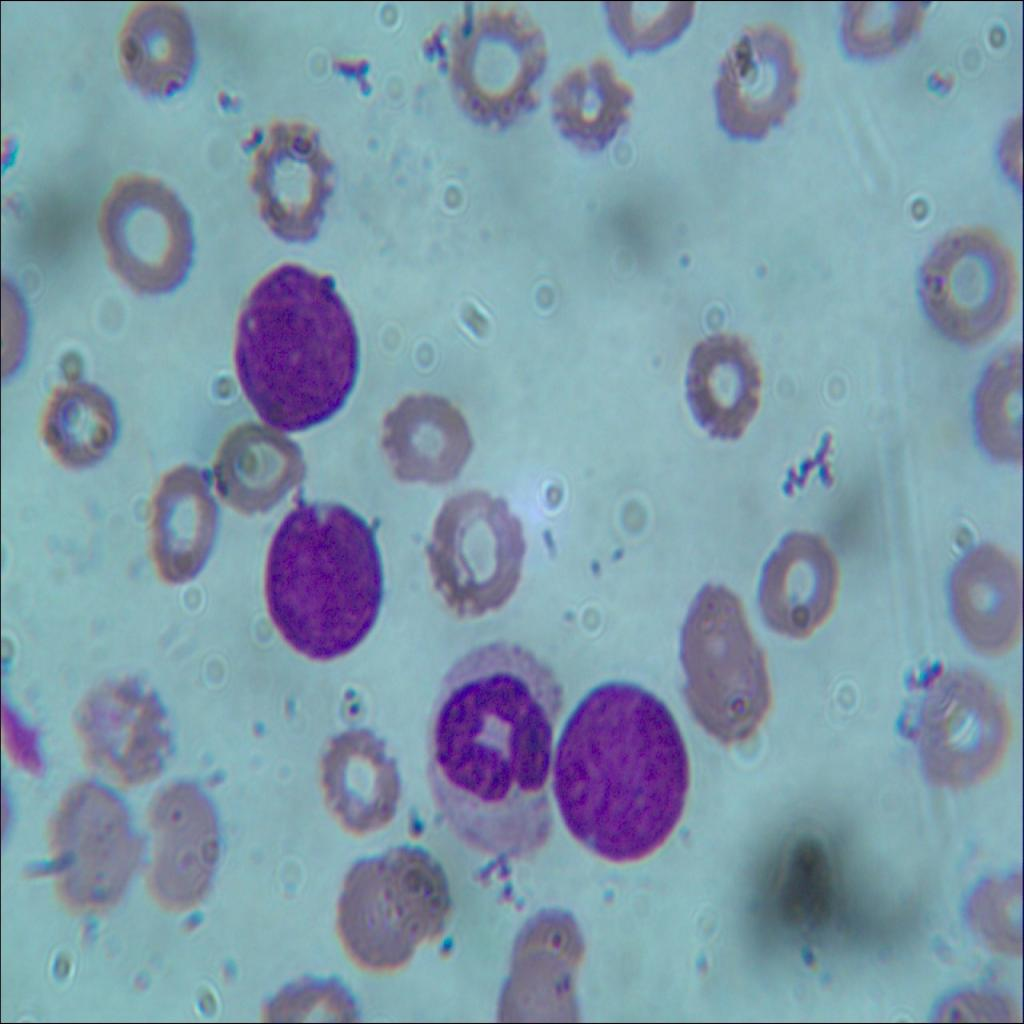Eritrosit: (666, 578, 764, 746), (420, 482, 530, 631), (904, 208, 1015, 352), (241, 114, 343, 248), (144, 764, 230, 918), (53, 762, 136, 920), (66, 662, 170, 788), (704, 25, 806, 148), (756, 530, 850, 657), (688, 337, 781, 464), (934, 540, 1023, 666), (915, 672, 1008, 791), (29, 370, 130, 479), (95, 178, 191, 292), (373, 388, 479, 488), (444, 15, 539, 125), (330, 850, 409, 978), (213, 412, 306, 515), (150, 454, 220, 589), (318, 728, 402, 838), (958, 337, 1023, 470), (500, 897, 598, 985), (112, 0, 198, 95), (554, 52, 634, 152), (376, 834, 451, 935), (489, 942, 581, 1023), (598, 0, 702, 61), (831, 0, 921, 67), (968, 865, 1023, 964)
Limfoblast: (553, 674, 686, 861), (233, 260, 361, 429), (262, 500, 388, 666)
Neutrofil: (428, 641, 562, 845)
Platelet: (428, 908, 461, 984), (746, 251, 786, 292), (793, 930, 823, 977), (209, 78, 244, 118), (918, 65, 950, 106), (404, 814, 438, 845), (246, 712, 270, 755), (675, 238, 701, 275), (273, 687, 303, 717), (598, 875, 620, 914), (543, 925, 574, 950), (606, 534, 628, 568), (195, 458, 216, 485), (336, 680, 359, 702), (694, 945, 710, 975), (590, 547, 602, 585), (348, 701, 358, 727)
